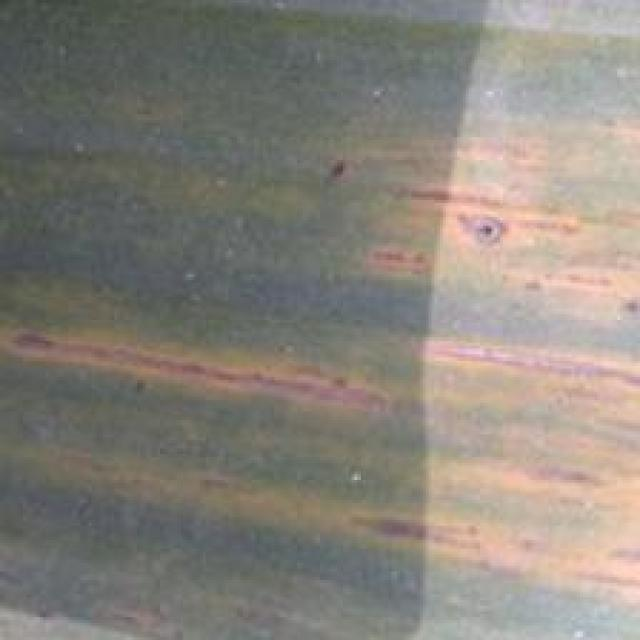Early_leaf_spot: (319, 118, 635, 313), (0, 316, 395, 445), (323, 440, 640, 591), (412, 318, 640, 427), (181, 461, 269, 513)
